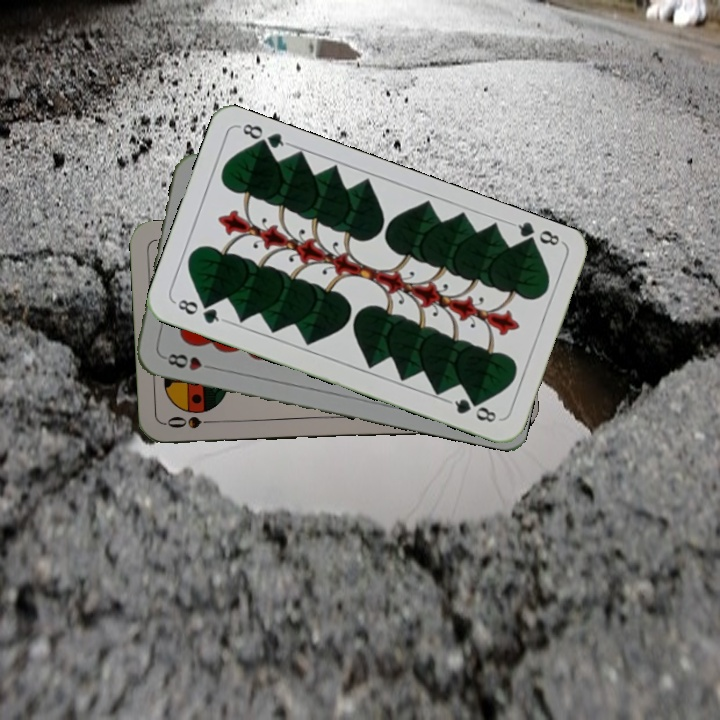G8: (508, 218, 565, 252), (171, 295, 228, 327)
H8: (159, 349, 218, 373)
SO: (163, 412, 222, 431)
